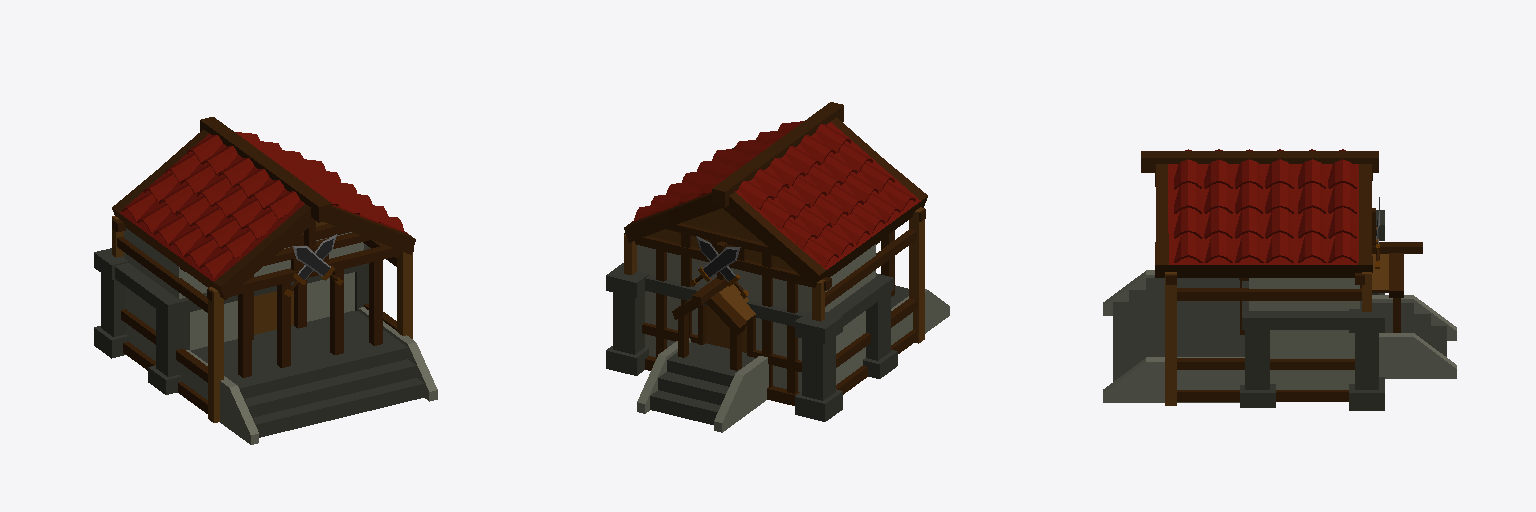
The model's file is Barracks_SecondAge_Level1.obj.
The picture shows the model from 3 angles: view 1: azimuth 30°, elevation 25°; view 2: azimuth 150°, elevation 25°; view 3: azimuth 270°, elevation 25°; orthographic projection.
Visible parts, largest first — view 1: Barracks_SecondAge_Level1; view 2: Barracks_SecondAge_Level1; view 3: Barracks_SecondAge_Level1.
Part boxes in pixels (x1,y1,x2,y2): Barracks_SecondAge_Level1: (94,117,437,444); Barracks_SecondAge_Level1: (606,102,949,432); Barracks_SecondAge_Level1: (1103,149,1456,410).
Size of the model in its own units: 1.01 by 0.8931 by 1.41.